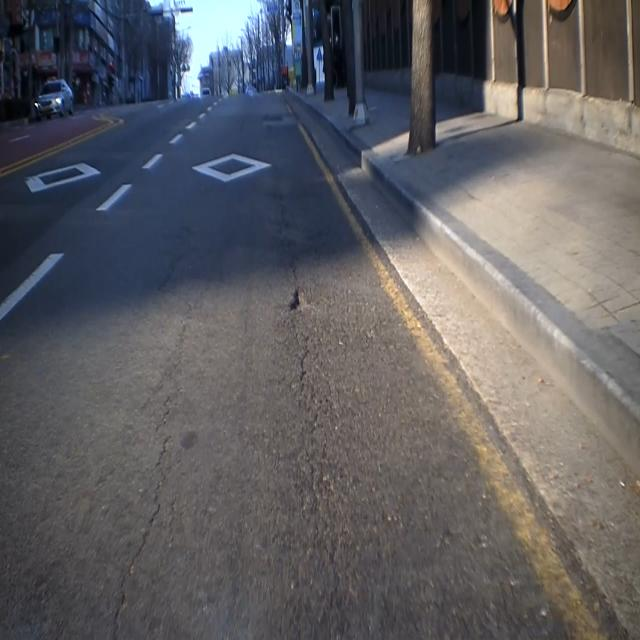Pothole: (282, 276, 314, 330)
